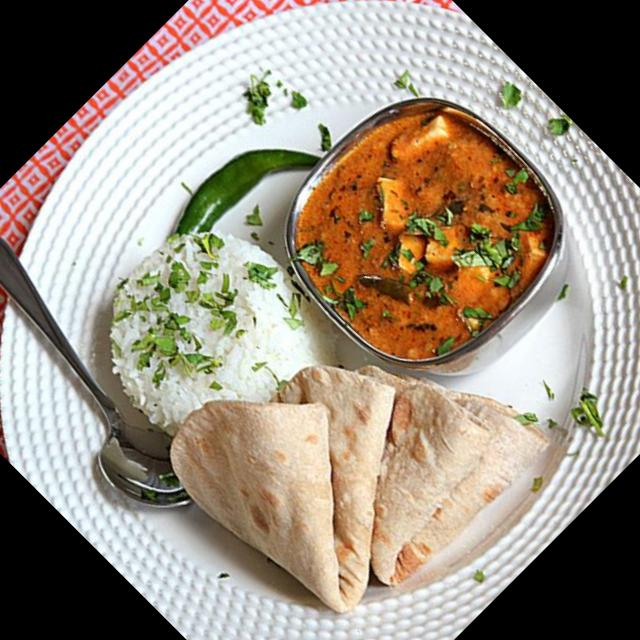rice: (56, 188, 364, 494)
roti: (140, 251, 569, 640)
